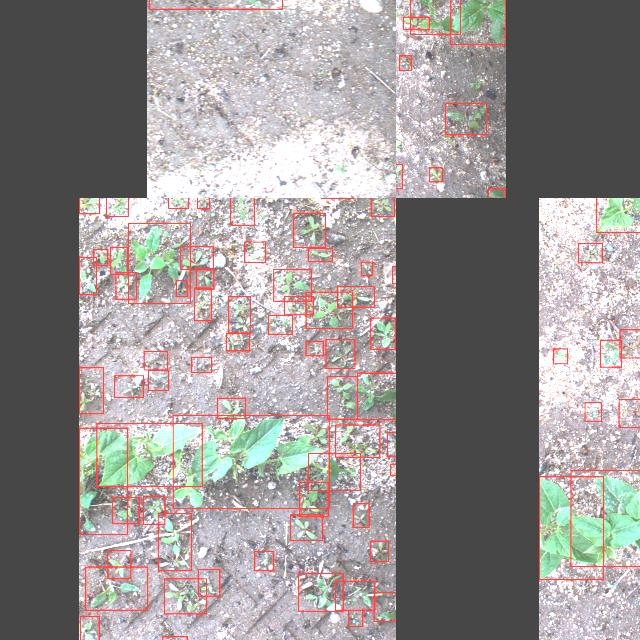crop: (172, 414, 328, 508), (569, 469, 640, 565), (96, 422, 202, 486), (538, 476, 602, 578), (78, 427, 128, 533), (450, 0, 505, 43), (410, 0, 460, 33), (595, 198, 640, 232)
weed: (127, 223, 189, 303), (85, 566, 147, 610), (308, 452, 360, 490), (157, 512, 190, 570), (356, 372, 396, 419), (298, 573, 342, 611), (306, 292, 352, 328), (164, 578, 206, 614), (334, 424, 380, 456), (446, 102, 486, 134), (327, 376, 357, 418), (273, 269, 311, 301), (335, 580, 375, 610), (78, 367, 102, 413), (293, 212, 325, 246), (298, 482, 328, 516), (326, 338, 354, 368), (290, 514, 322, 540), (370, 317, 396, 348), (228, 296, 250, 332), (336, 286, 374, 306), (112, 496, 138, 524), (180, 246, 212, 268), (106, 550, 130, 578), (78, 256, 95, 294), (374, 591, 396, 620), (230, 198, 254, 224), (197, 568, 219, 596), (142, 496, 164, 524), (114, 375, 142, 397), (618, 329, 640, 357), (618, 399, 640, 427), (217, 397, 245, 417), (193, 288, 210, 320), (600, 339, 620, 366), (115, 272, 135, 298), (284, 296, 312, 314), (268, 314, 292, 334), (143, 350, 167, 370), (577, 242, 601, 262), (79, 615, 98, 640), (110, 246, 126, 274), (244, 241, 266, 261), (254, 550, 274, 570), (148, 370, 168, 390), (370, 540, 388, 562), (226, 332, 248, 350), (370, 198, 393, 215), (353, 503, 369, 527), (105, 198, 127, 215), (195, 268, 213, 288), (191, 356, 211, 372), (403, 16, 429, 28), (584, 402, 600, 421), (78, 198, 98, 213), (308, 248, 332, 260), (387, 431, 396, 456), (348, 609, 362, 625), (93, 249, 107, 265), (306, 341, 322, 355), (552, 348, 566, 364), (428, 167, 442, 181), (399, 54, 411, 70), (168, 198, 188, 207), (176, 280, 187, 296), (361, 261, 373, 275), (488, 188, 504, 198), (396, 163, 401, 188), (197, 198, 209, 208), (161, 636, 186, 640), (392, 266, 396, 283), (390, 463, 396, 474)
